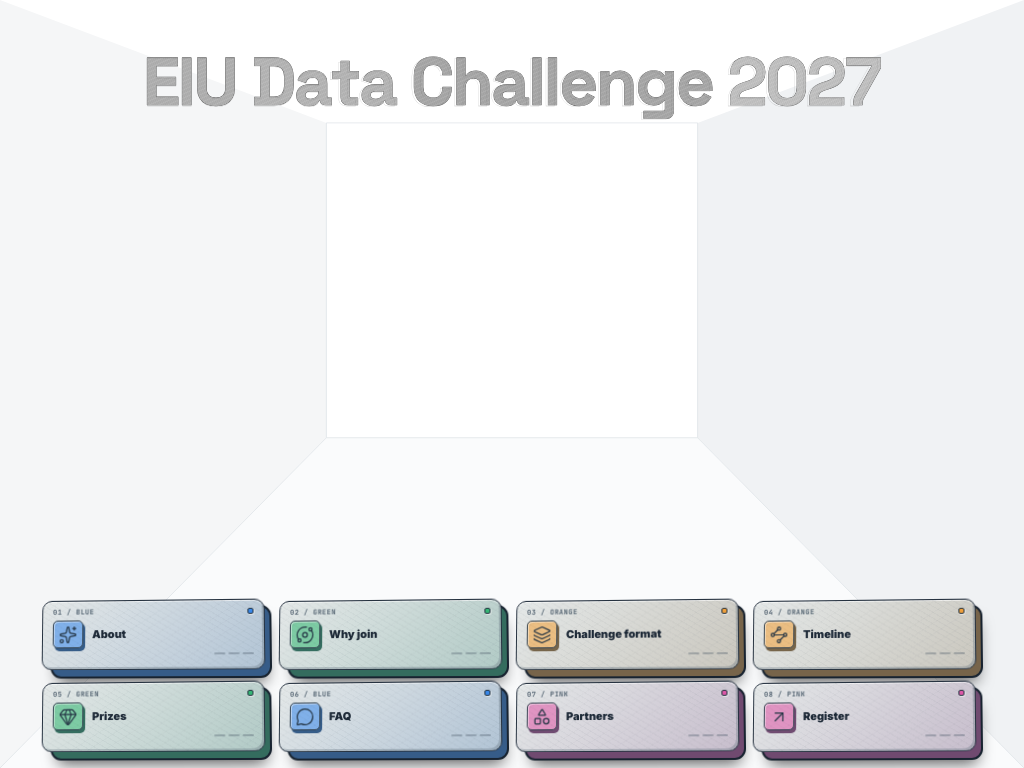
Test: never blocks category changes on an outgoing animation
Step 1. Click the button "01 / Blue About" → (154, 635), box [42,599,265,670]
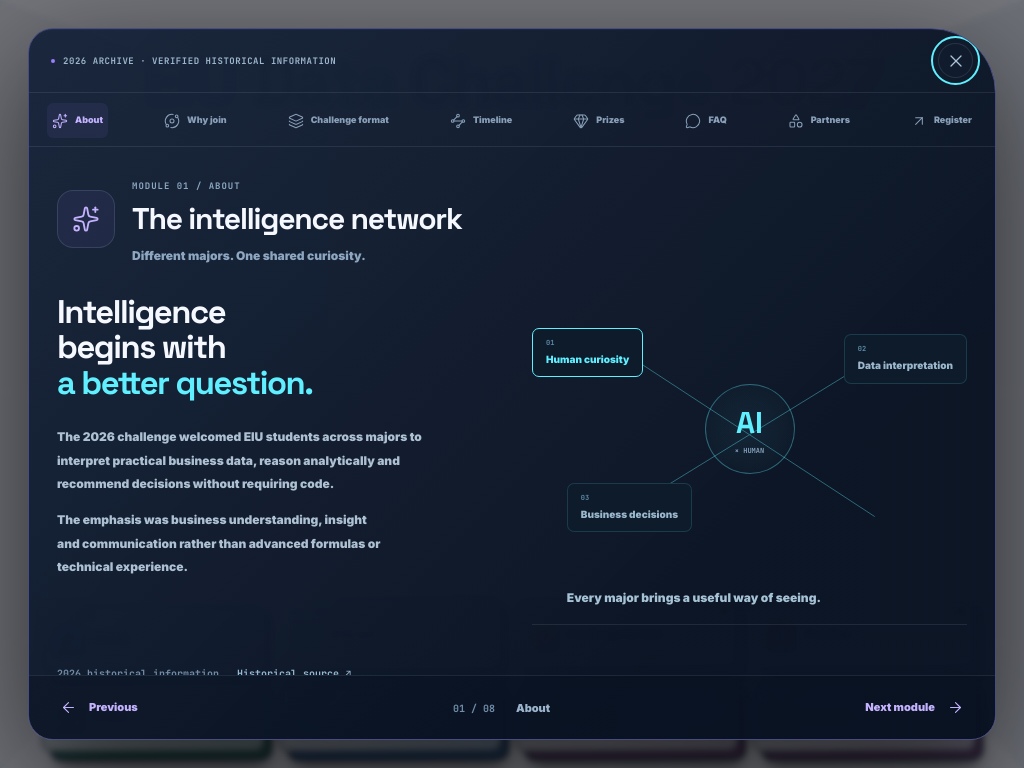
Step 2. Click the button with aria-label "04. Timeline" → (481, 120), box [445,103,517,138]
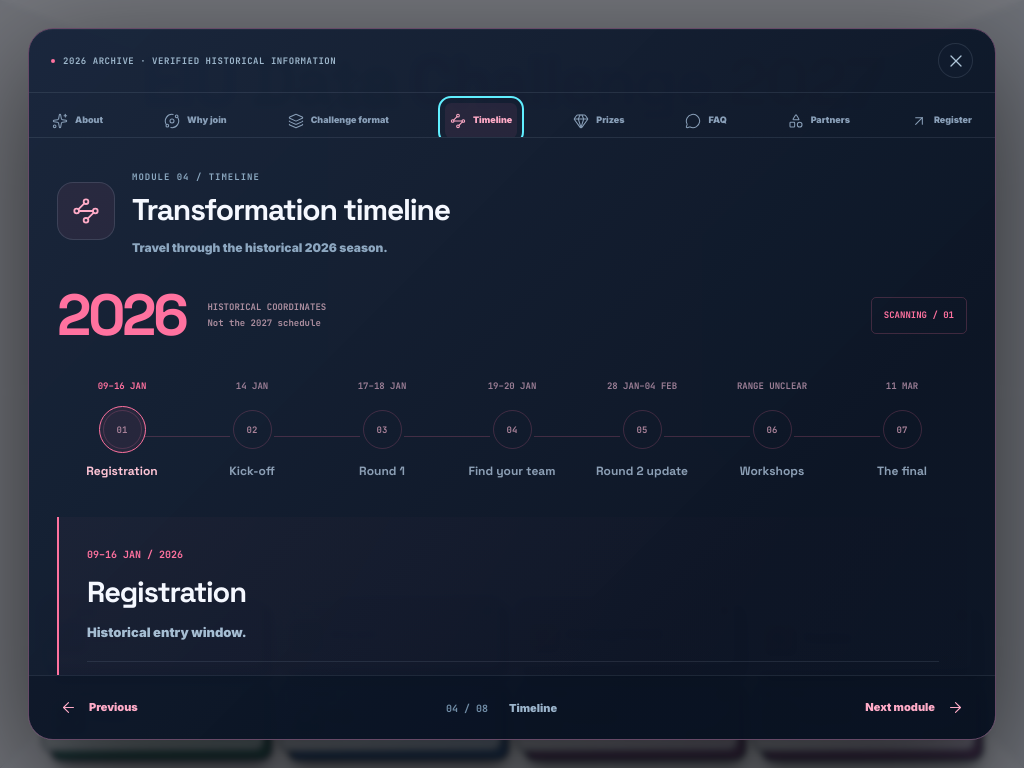
Expected: the heading "Transformation timeline" is shown, [132,193,450,228]
Step 3. Click the button with aria-label "08. Register" → (941, 120), box [906,103,977,138]
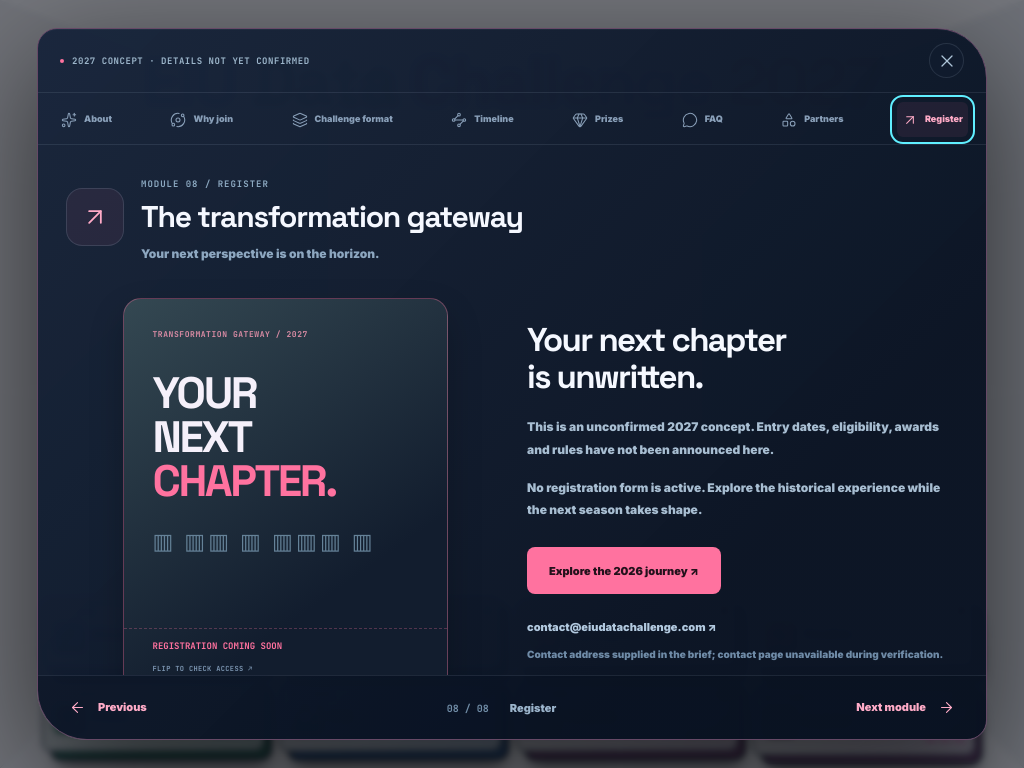
Expected: the heading "The transformation gateway" is shown, [141,200,523,234]
